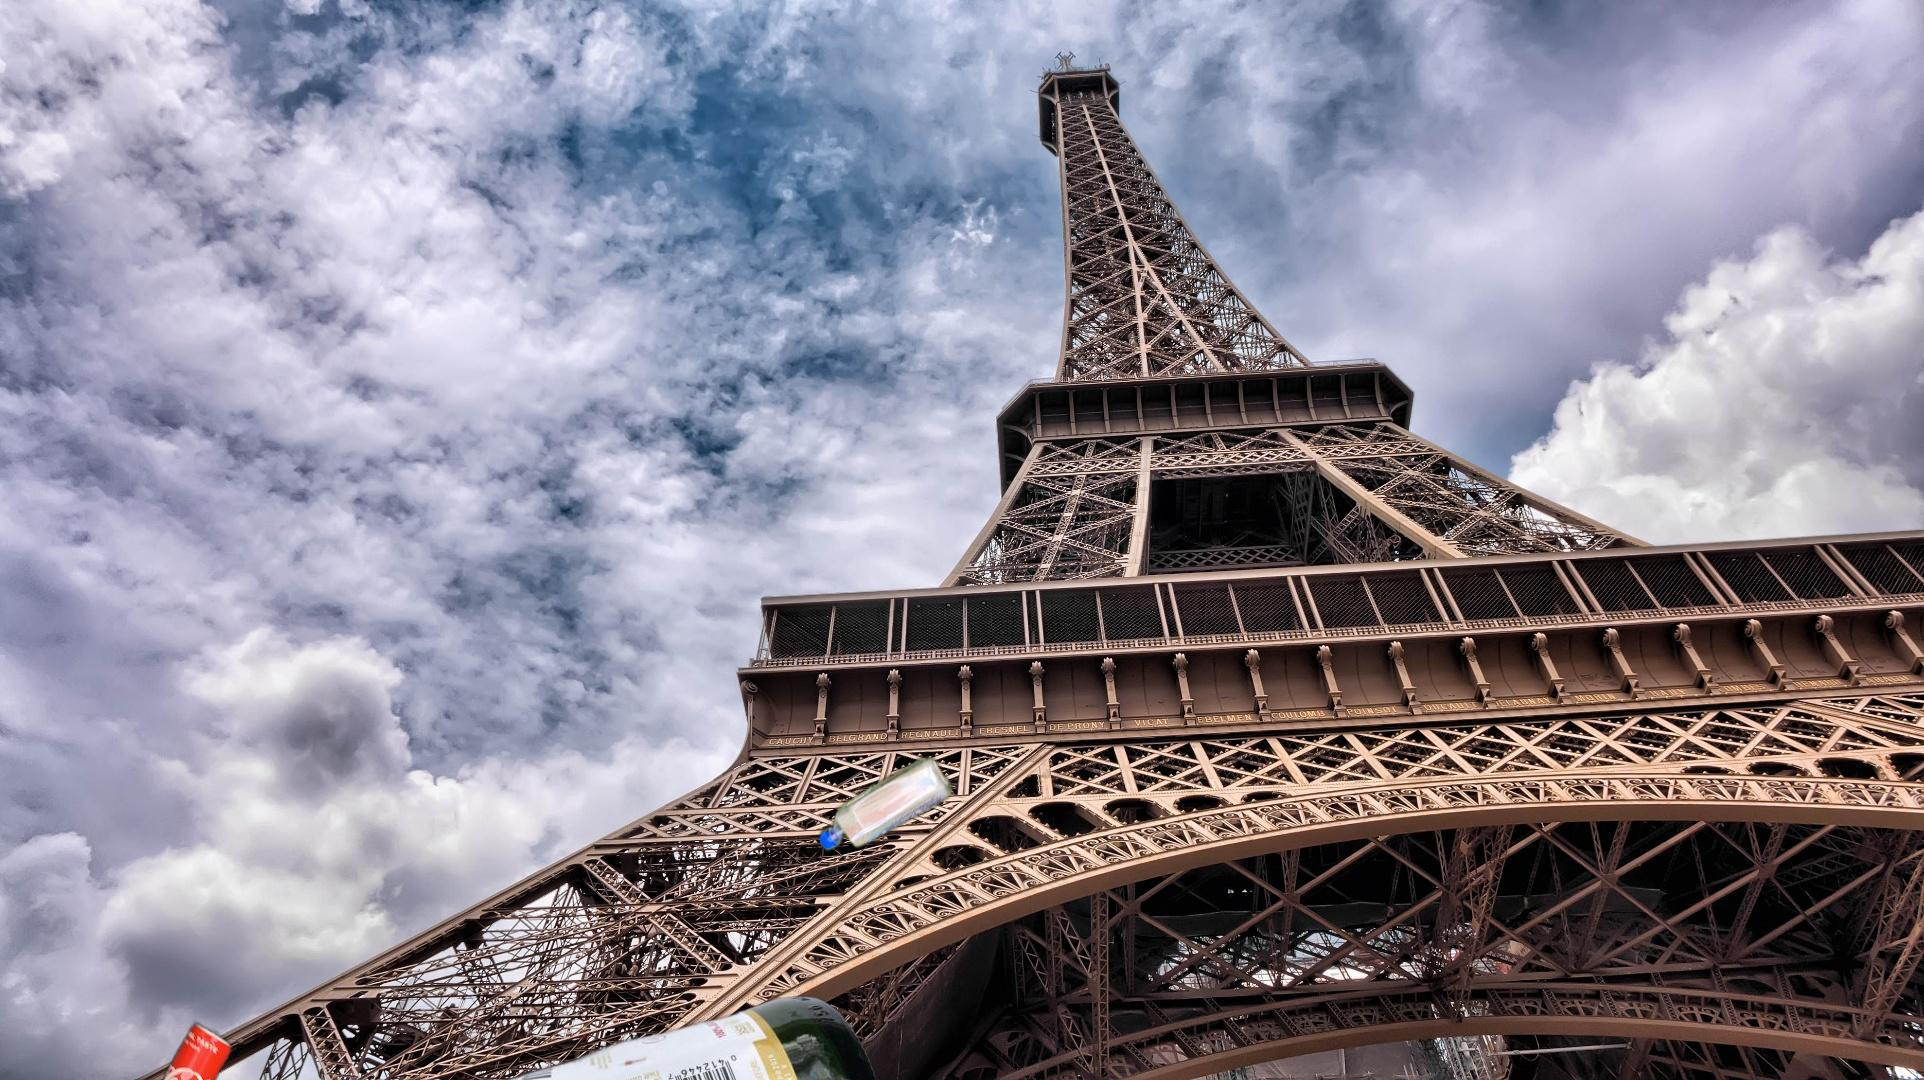glass: (396, 993, 891, 1080)
metal-cans: (137, 1014, 237, 1080)
plastic-bottles: (815, 750, 958, 857)
